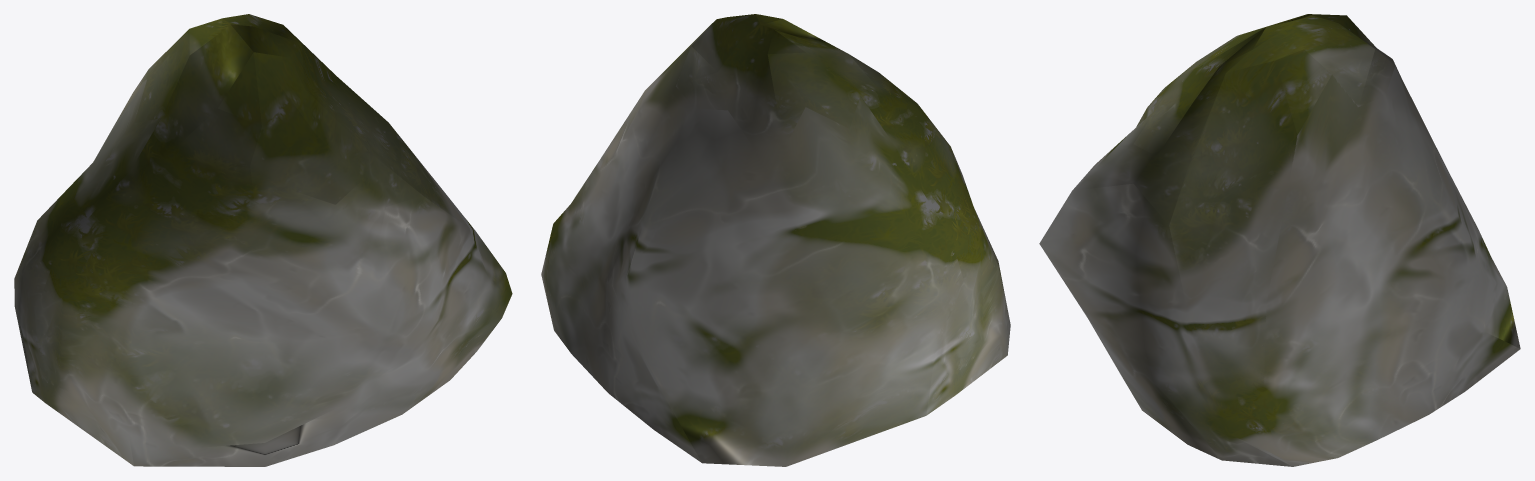
File: StoneVryLow3.fbx
3 renders of one model, left to right at view 1: azimuth 30°, elevation 25°; view 2: azimuth 150°, elevation 25°; view 3: azimuth 270°, elevation 25°, orthographic.
Visible parts, largest first — view 1: SM_stones_big_low; view 2: SM_stones_big_low; view 3: SM_stones_big_low.
Boxes of the visible parts, bbox=[...] form: SM_stones_big_low: bbox=[14, 14, 512, 466]; SM_stones_big_low: bbox=[541, 14, 1010, 466]; SM_stones_big_low: bbox=[1039, 14, 1520, 466].
Bounding box in the file's own units: 1.67 × 1.29 × 1.56.
Materials: 1 (1 with a texture image).
